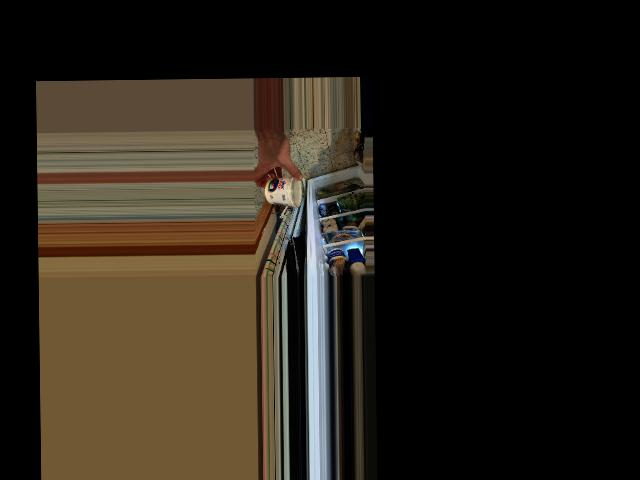cotage: (261, 177, 300, 208)
